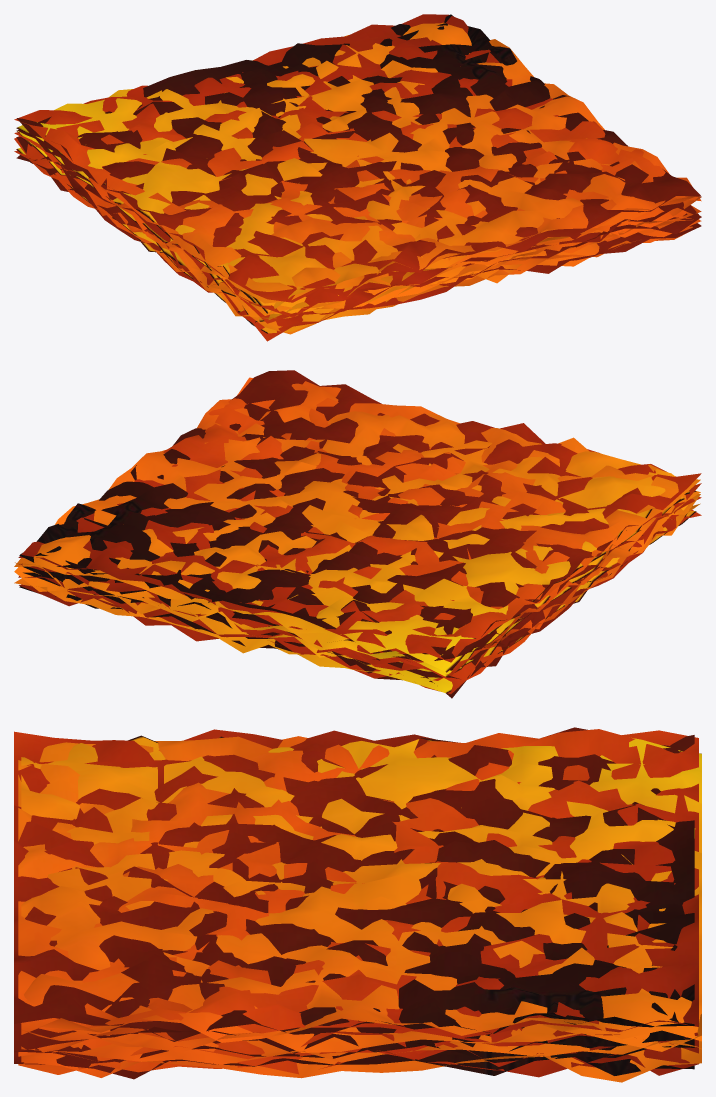
Rendered from Lava.fbx.
3 renders of one model, top to bottom at view 1: azimuth 30°, elevation 25°; view 2: azimuth 150°, elevation 25°; view 3: azimuth 270°, elevation 25°, orthographic. The views are drawn at different scales.
Parts seen in each view (by area): view 1: Plane.003, Plane.002, Plane, Plane.001; view 2: Plane.003, Plane.002, Plane.001, Plane; view 3: Plane.003, Plane.002, Plane, Plane.001.
Boxes of the visible parts, x1,y1,x2,y2 form: Plane.003: [14, 14, 701, 312]; Plane.002: [14, 23, 701, 317]; Plane: [14, 148, 701, 341]; Plane.001: [14, 131, 701, 323]; Plane.003: [14, 370, 701, 672]; Plane.002: [15, 441, 701, 677]; Plane.001: [14, 494, 701, 683]; Plane: [14, 503, 701, 698]; Plane.003: [14, 727, 701, 1042]; Plane.002: [14, 782, 701, 1056]; Plane: [14, 1041, 701, 1082]; Plane.001: [14, 1033, 701, 1066].
Bounding box in the file's own units: 4392 × 551 × 4407.
